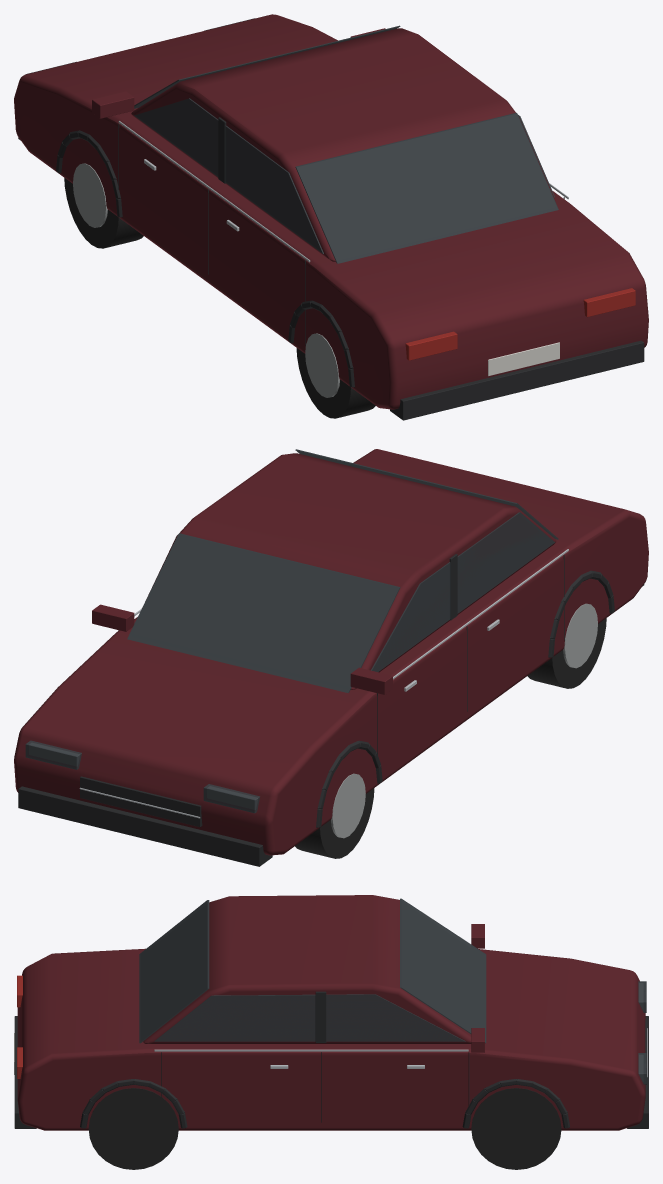
Rendered from veh_car_sedan_wine.glb.
3 renders of one model, top to bottom at view 1: azimuth 30°, elevation 25°; view 2: azimuth 150°, elevation 25°; view 3: azimuth 270°, elevation 25°, orthographic. The views are drawn at different scales.
Visible parts, largest first — view 1: Car; view 2: Car; view 3: Car.
Part boxes in pixels (x1,y1,x2,y2): Car: (14, 14, 648, 420); Car: (14, 449, 648, 866); Car: (14, 895, 648, 1169).
Size of what is drawn, in the model's own units: 2.04 by 1.44 by 4.65.
